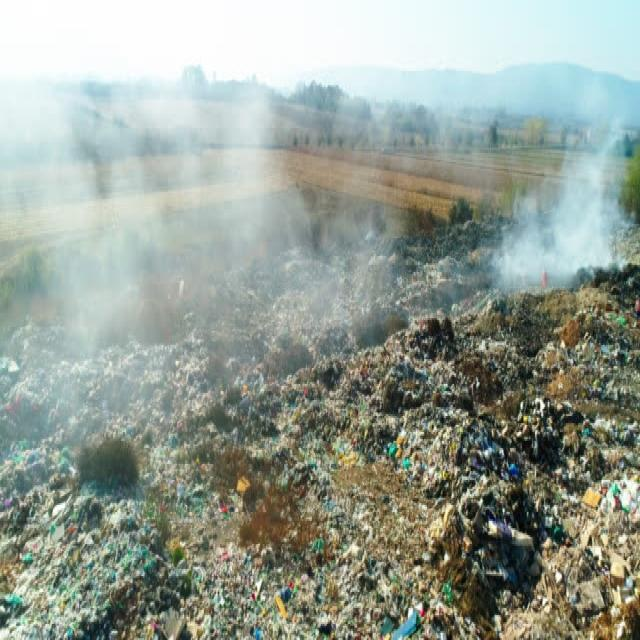plastic: (60, 414, 614, 598)
